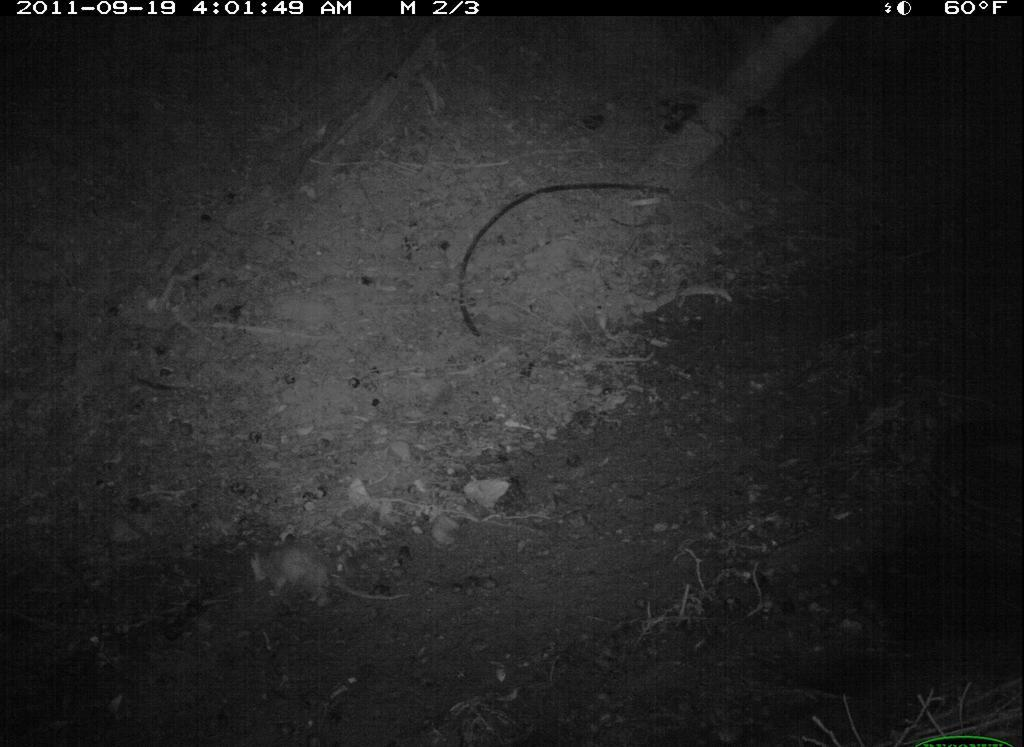opossum: (242, 533, 419, 616)
